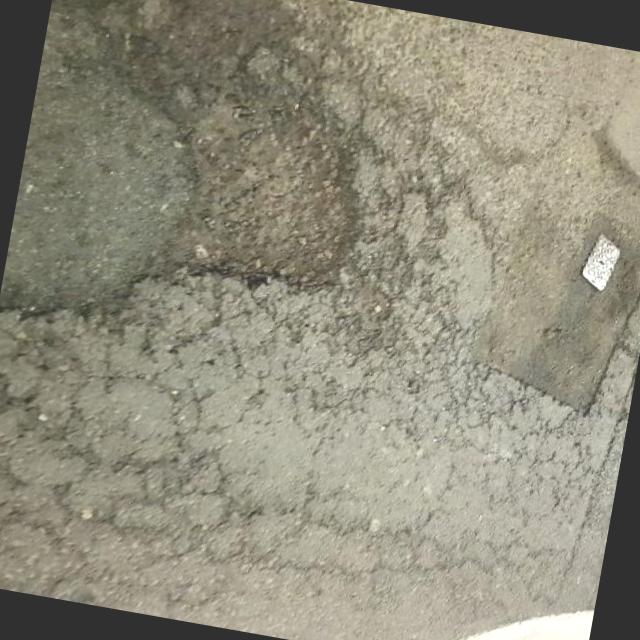pothole: (116, 70, 393, 310)
